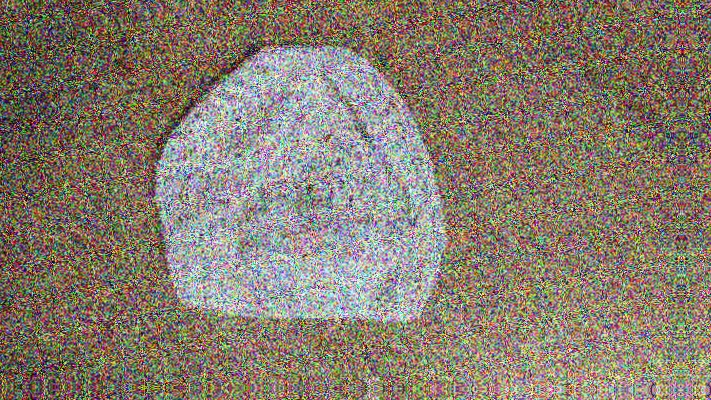Hat: (132, 18, 499, 337)
